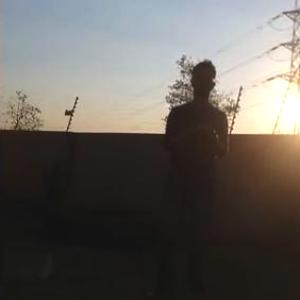follow: (139, 52, 230, 291)
